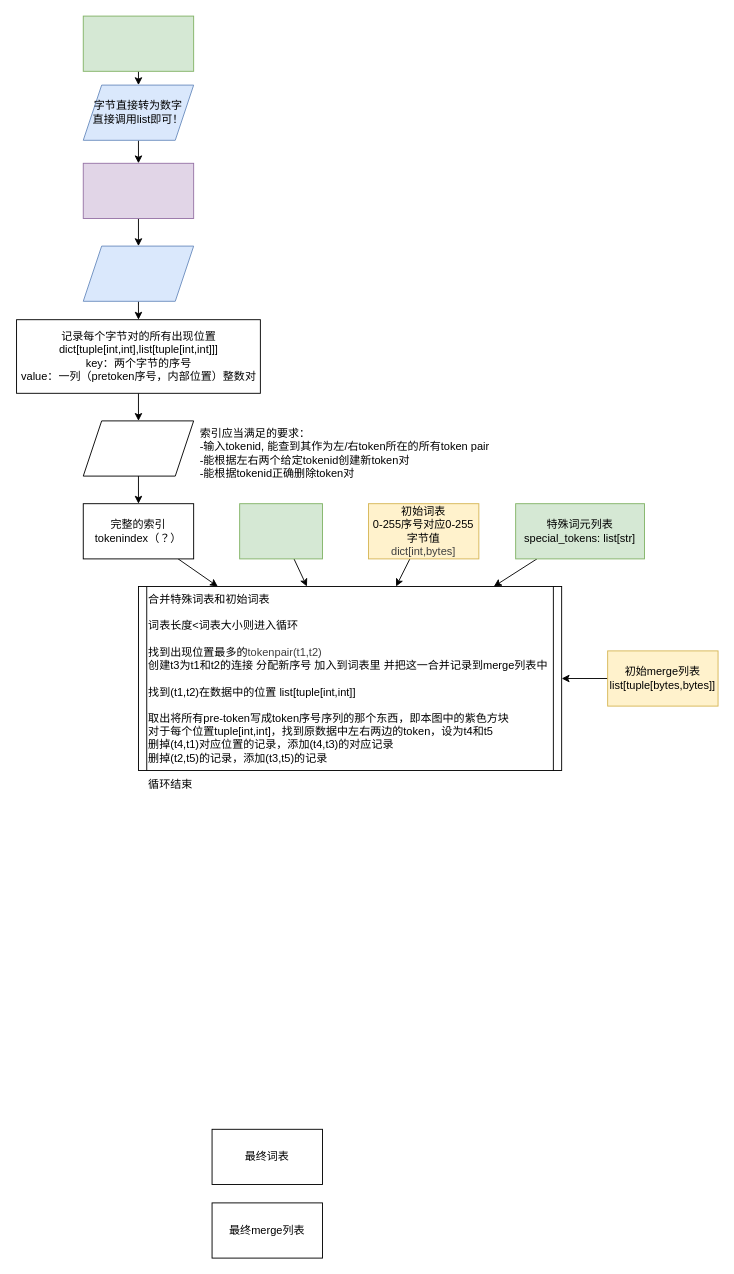
Some shapes in this 734 by 1274 pixel diagram are drawn without their labels. The shapes that lost their labels are listed below. From the top down, each one's centre as x and y in pixels, then its label:
At (138,43): "每段的pre-token列表 list[bytes]".
At (138,190): "每个pre-token内部字节token的序号 list[list[int]]".
At (138,273): "读所有字节对 create_token_pair_dict_int".
At (138,448): "进一步处理 建立完整的索引".
At (280,531): "词表大小 vocab_size:int".
